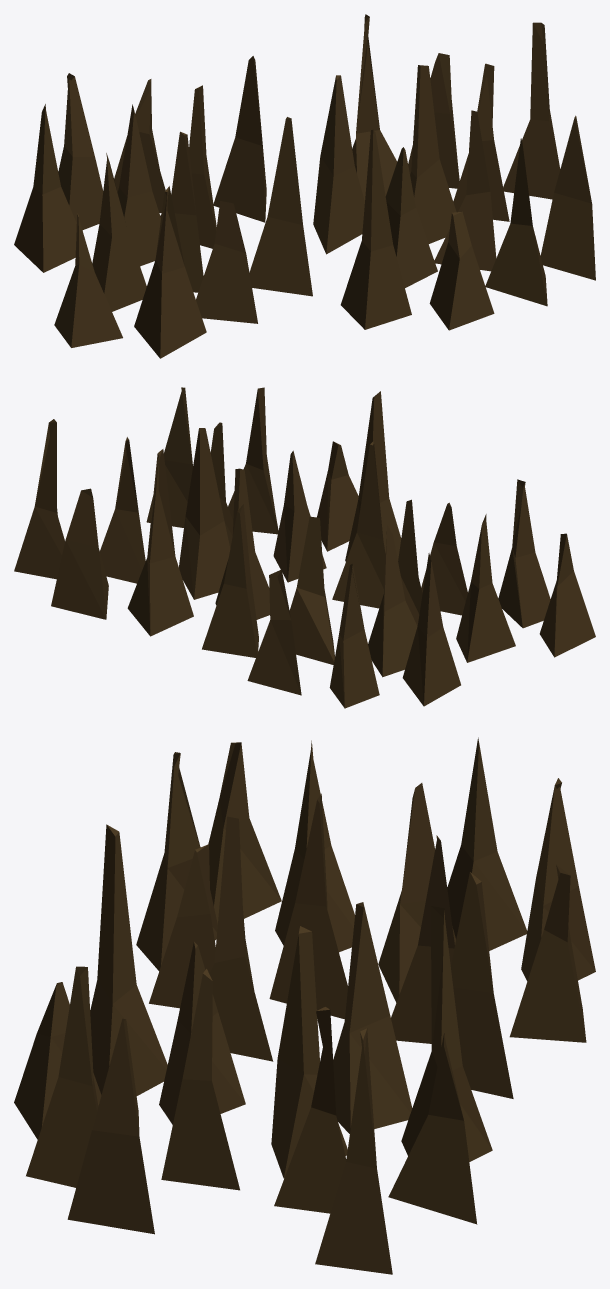
File: hell_flora_4.fbx
3 renders of one model, top to bottom at view 1: azimuth 30°, elevation 25°; view 2: azimuth 150°, elevation 25°; view 3: azimuth 270°, elevation 25°, orthographic. The views are drawn at different scales.
Parts seen in each view (by area): view 1: hell_flora_4_LOD0; view 2: hell_flora_4_LOD0; view 3: hell_flora_4_LOD0.
Boxes of the visible parts, x1,y1,x2,y2 form: hell_flora_4_LOD0: (14, 14, 595, 358); hell_flora_4_LOD0: (14, 387, 595, 708); hell_flora_4_LOD0: (14, 737, 595, 1274).
Size of what is drawn, in the model's own units: 7.2 by 4.78 by 2.38.
